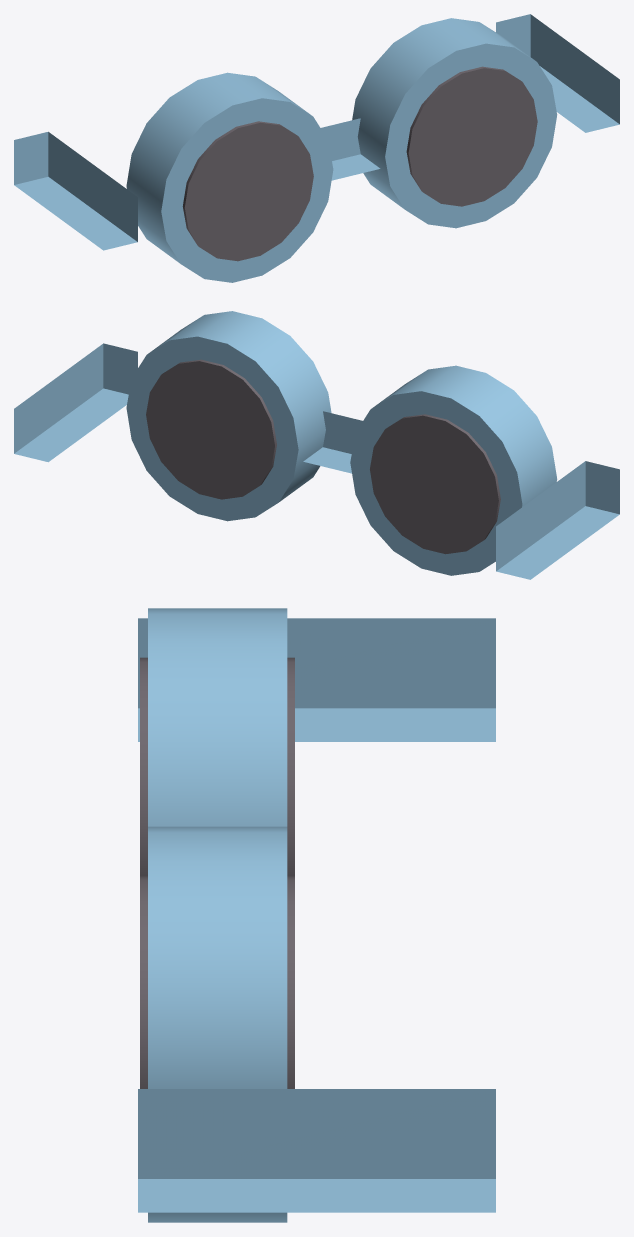
File: diver_goggles.glb
3 views of the same model, one above another, from view 1: azimuth 30°, elevation 25°; view 2: azimuth 150°, elevation 25°; view 3: azimuth 270°, elevation 25° (orthographic). The views are drawn at different scales.
Parts seen in each view (by area): view 1: Diver Goggles; view 2: Diver Goggles; view 3: Diver Goggles.
Boxes of the visible parts, x1=… form: Diver Goggles: x1=14, y1=14, x2=619, y2=282; Diver Goggles: x1=14, y1=311, x2=619, y2=579; Diver Goggles: x1=138, y1=608, x2=495, y2=1222.
Bounding box in the file's own units: 0.6 × 0.197 × 0.18.
